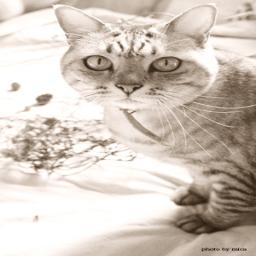catnose: (115, 83, 144, 93)
